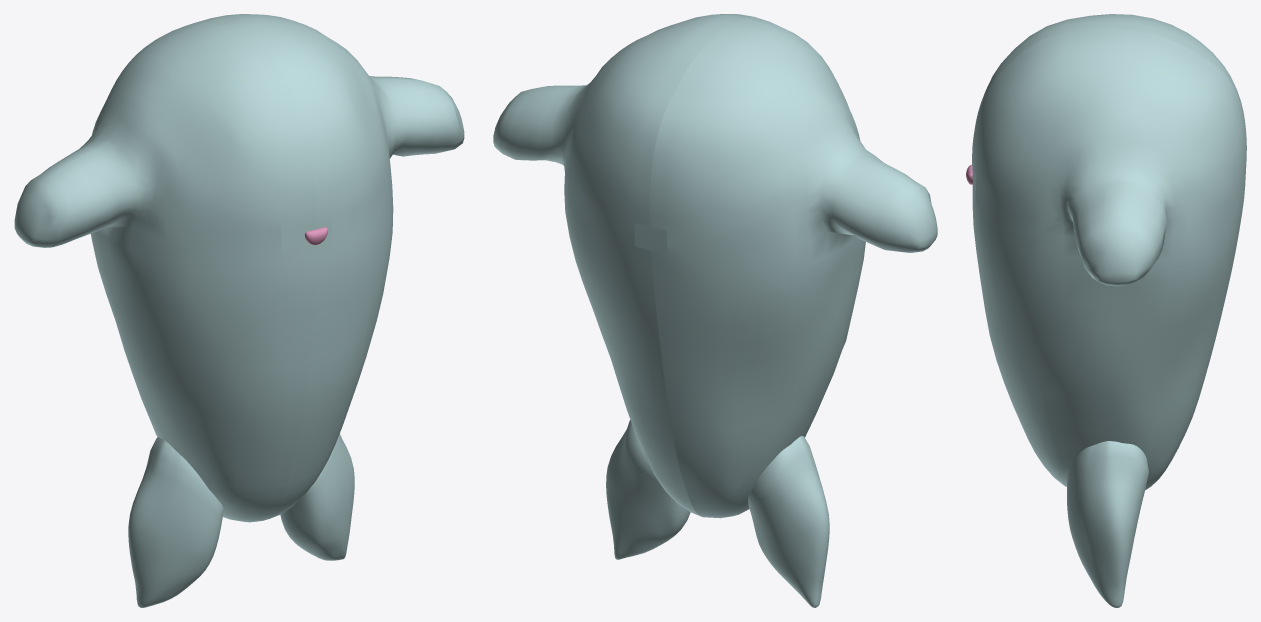
Rendered from BODY.fbx.
3 renders of one model, left to right at view 1: azimuth 30°, elevation 25°; view 2: azimuth 150°, elevation 25°; view 3: azimuth 270°, elevation 25°, orthographic. The views are drawn at different scales.
Parts seen in each view (by area): view 1: body, TAIL; view 2: body, TAIL; view 3: body, TAIL.
Part boxes in pixels (<box>): body: <box>14,14,464,522</box>; TAIL: <box>128,433,354,607</box>; body: <box>493,14,937,518</box>; TAIL: <box>606,420,829,607</box>; body: <box>972,14,1246,489</box>; TAIL: <box>1067,441,1148,607</box>.
Bounding box in the file's own units: 40.05 × 48.72 × 23.24.
